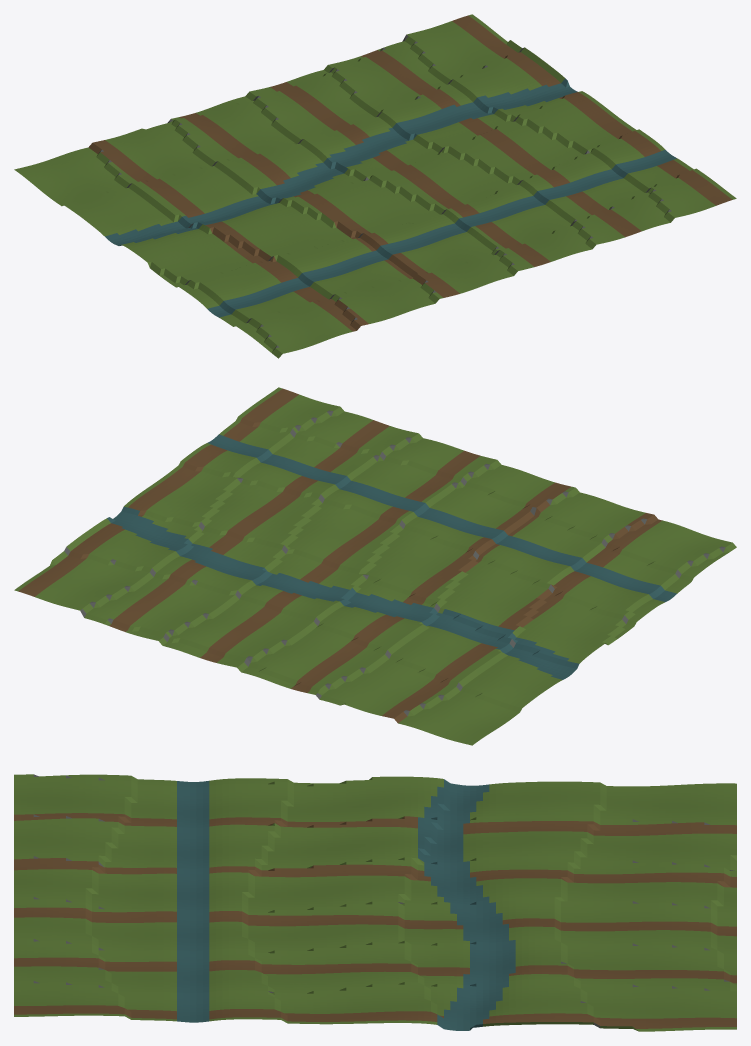
Rendered from amber_vineyard_terraces_112.obj.
The picture shows the model from 3 angles, top to bottom: view 1: azimuth 30°, elevation 25°; view 2: azimuth 150°, elevation 25°; view 3: azimuth 270°, elevation 25°; orthographic projection. The views are drawn at different scales.
Bounding box in the file's own units: 222 × 25.83 × 222.
